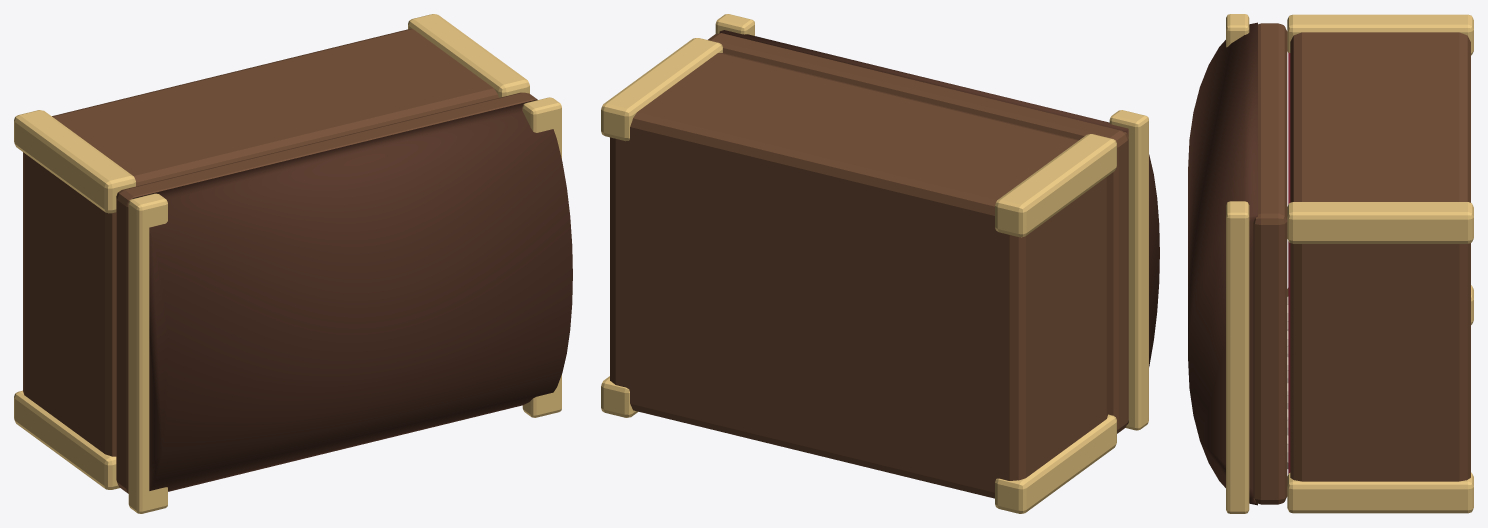
The model's file is mimic.glb.
3 renders of one model, left to right at view 1: azimuth 30°, elevation 25°; view 2: azimuth 150°, elevation 25°; view 3: azimuth 270°, elevation 25°, orthographic. The views are drawn at different scales.
Visible parts, largest first — view 1: LidRound, Box, LidBox, LidBand, Band.001, Band, Band.003, LidBand.001; view 2: Box, LidBox, LidBand, Band.001, Band, Band.003, LidRound, Band.002, LidBand.001; view 3: Box, LidRound, LidBox, Band.003, LidBand.001, Band.002, Band.001, Gullet, LidBand.
Boxes of the visible parts, left/top/right/bottom form: LidRound: left=132, top=99, right=572, bottom=491; Box: left=23, top=29, right=498, bottom=456; LidBox: left=116, top=92, right=537, bottom=493; LidBand: left=128, top=193, right=167, bottom=513; Band.001: left=14, top=110, right=135, bottom=213; Band: left=14, top=390, right=119, bottom=489; Band.003: left=408, top=14, right=529, bottom=97; LidBand.001: left=522, top=97, right=561, bottom=417; Box: left=610, top=53, right=1107, bottom=498; LidBox: left=708, top=33, right=1128, bottom=433; LidBand: left=1109, top=110, right=1148, bottom=430; Band.001: left=995, top=134, right=1116, bottom=237; Band: left=995, top=414, right=1116, bottom=513; Band.003: left=601, top=38, right=722, bottom=140; LidRound: left=719, top=30, right=1159, bottom=424; Band.002: left=601, top=376, right=638, bottom=417; LidBand.001: left=715, top=14, right=754, bottom=35; Box: left=1290, top=32, right=1470, bottom=481; LidRound: left=1188, top=22, right=1257, bottom=505; LidBox: left=1253, top=23, right=1287, bottom=504; Band.003: left=1287, top=202, right=1473, bottom=243; LidBand.001: left=1226, top=201, right=1249, bottom=513; Band.002: left=1287, top=472, right=1473, bottom=513; Band.001: left=1287, top=14, right=1473, bottom=55; Gullet: left=1288, top=52, right=1290, bottom=473; LidBand: left=1226, top=14, right=1249, bottom=47.
Size of the model in its own units: 1.64 by 1.15 by 0.98.
